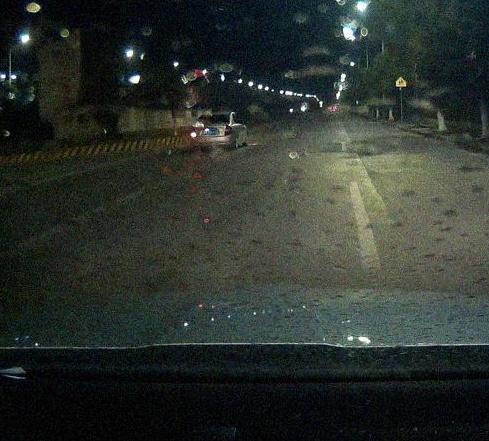L_light: (191, 128, 197, 137)
R_light: (224, 126, 232, 136)
T_light: (211, 115, 218, 117)
night-left: (190, 111, 234, 150)
